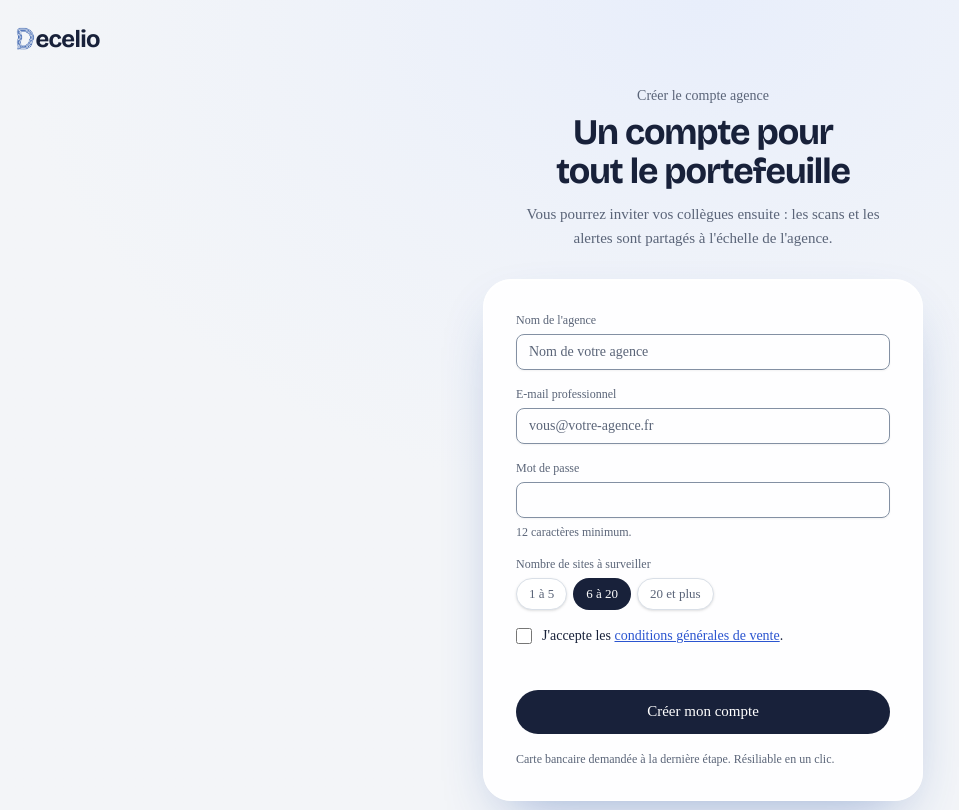
Test: RegisterPage — case CGV (#152) › affiche le message d'erreur renvoyé par l'API quand elle refuse l'inscription (400)
Type "Atelier Boréal" into the field labelled "Nom de l'agence" at point(703, 352), box [516,334,890,370]
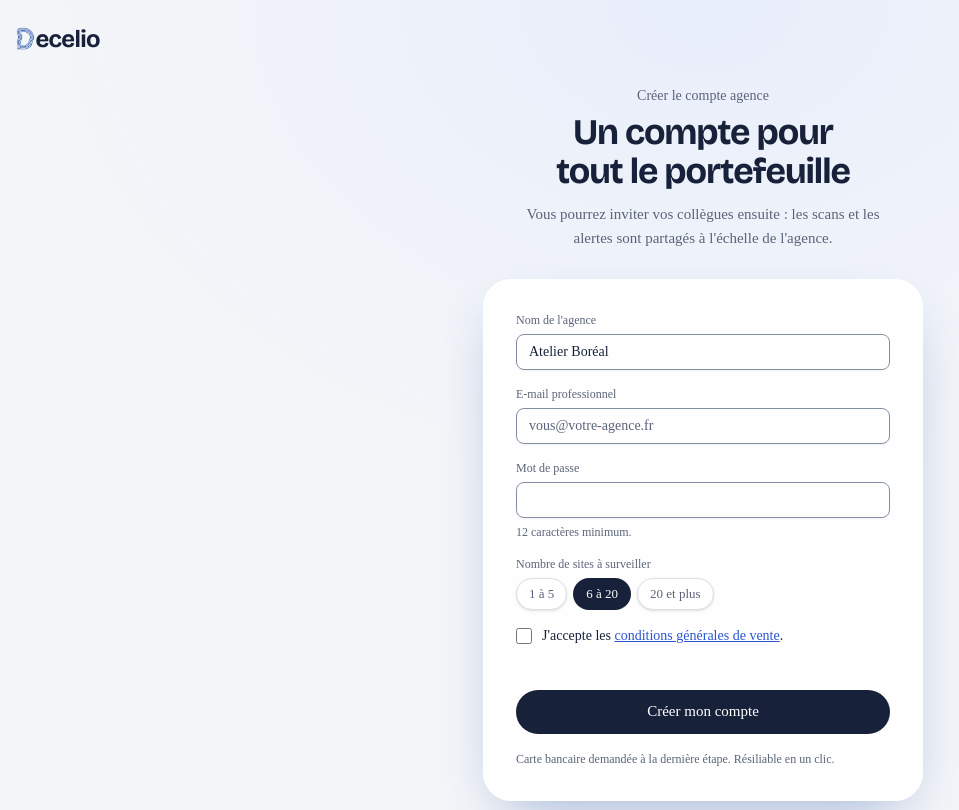
Type "contact@atelier-boreal.fr" into the field labelled "E-mail professionnel" at point(703, 426), box [516,408,890,444]
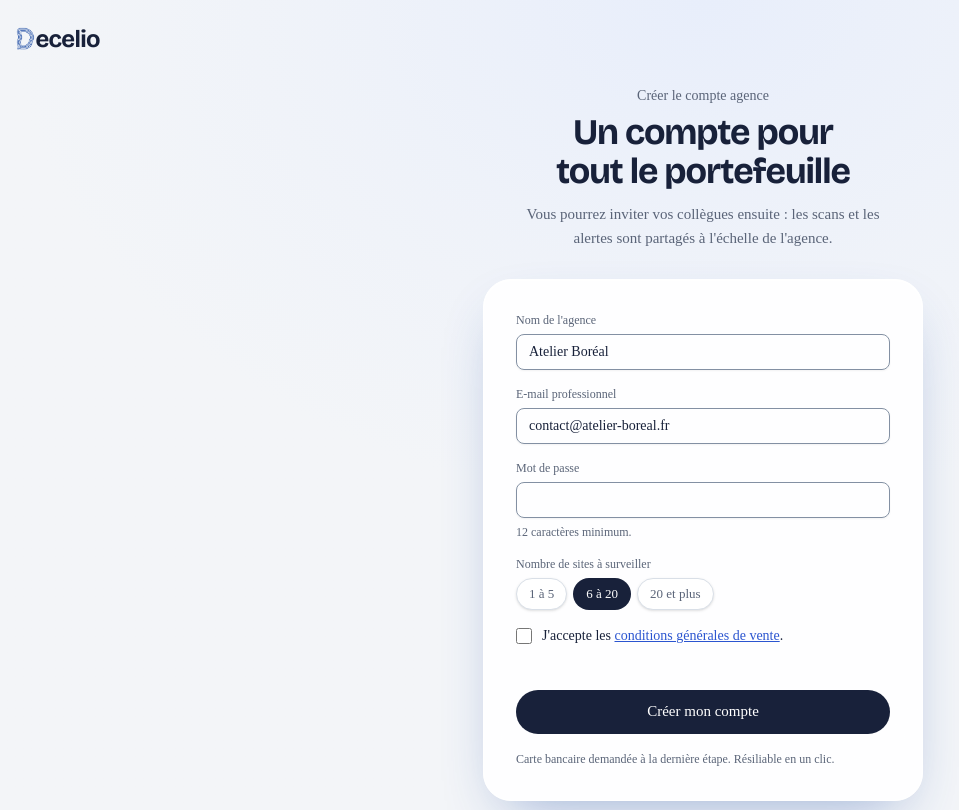
Type "un-mot-de-passe-solide" into the password field labelled "Mot de passe" at point(703, 500), box [516,482,890,518]
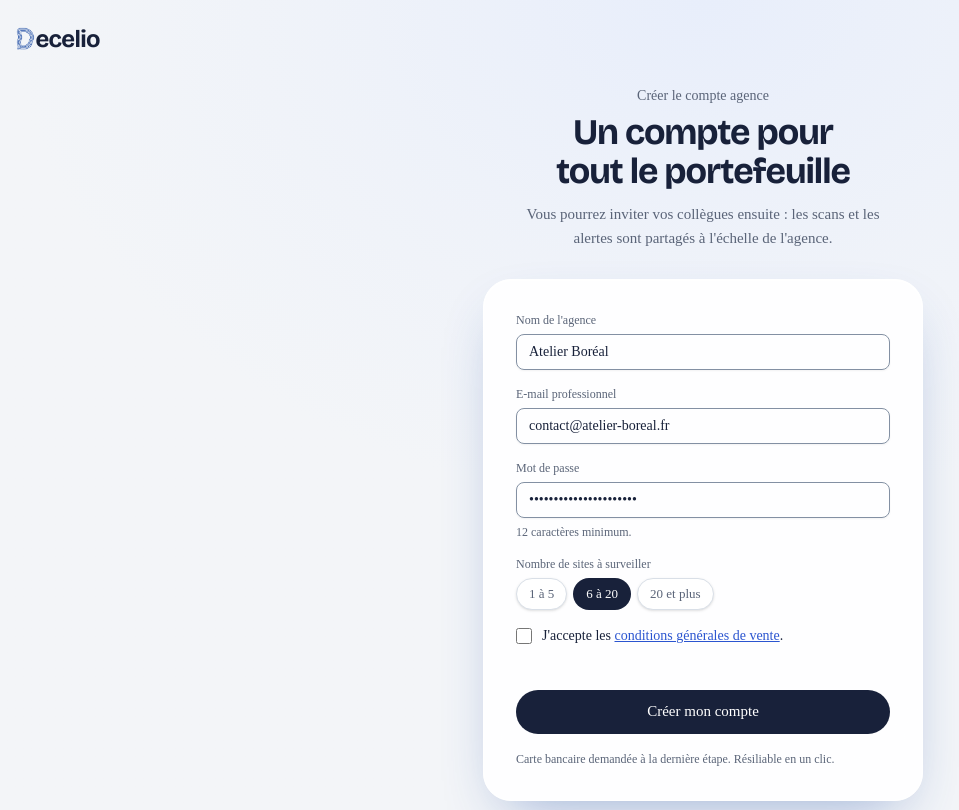
Click the checkbox labelled "J'accepte les conditions générales de vente ." at point(524, 636), box [516,628,532,644]
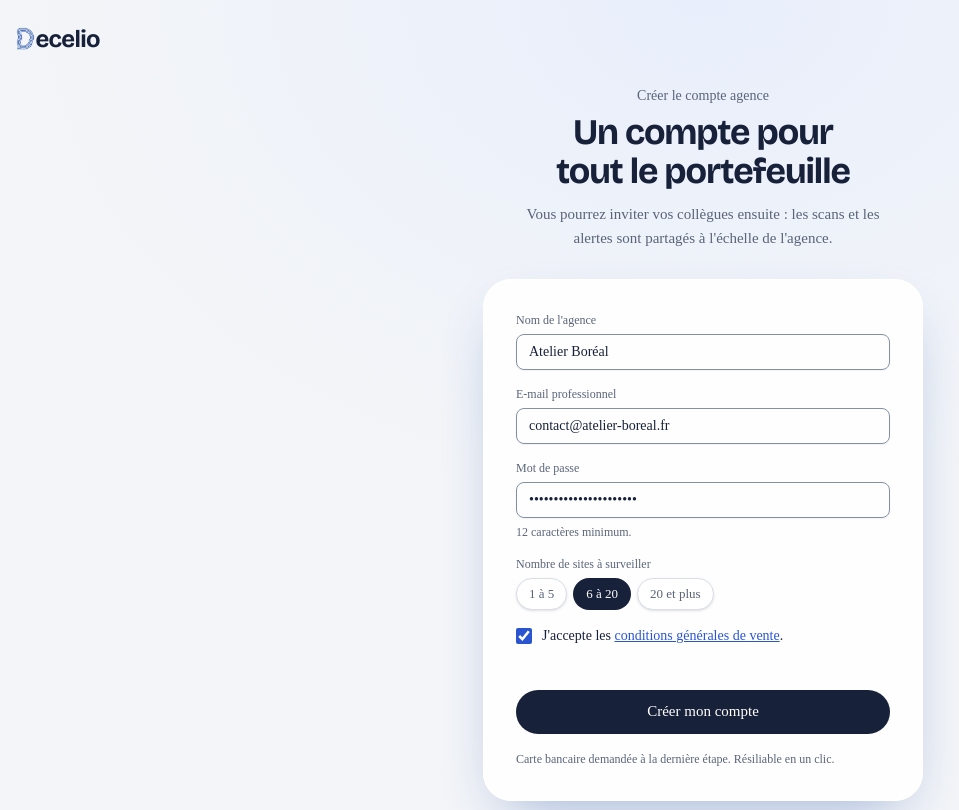
Click the button "Créer mon compte" at point(703, 712), box [516,690,890,734]
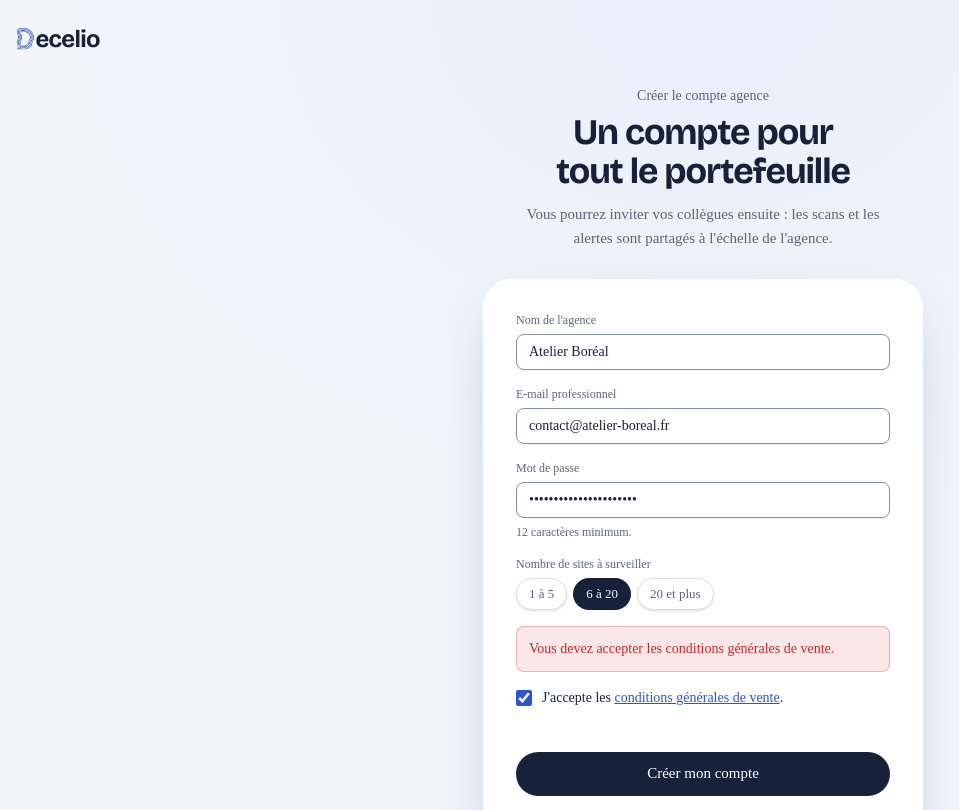
Now the message reads "Vous devez accepter les conditions générales de vente.", box [529,640,834,656]
